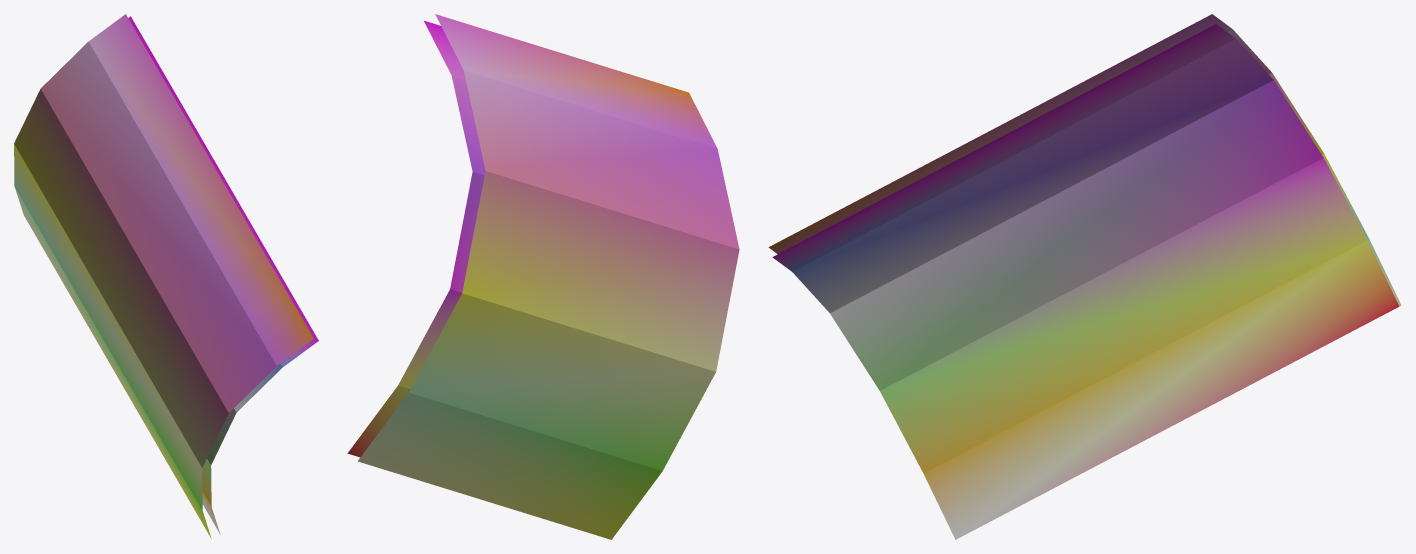
3 renders of one model, left to right at view 1: azimuth 30°, elevation 25°; view 2: azimuth 150°, elevation 25°; view 3: azimuth 270°, elevation 25°, orthographic. The views are drawn at different scales.
Parts seen in each view (by area): view 1: Object01; view 2: Object01; view 3: Object01.
Boxes of the visible parts, x1,y1,x2,y2 form: Object01: (14,14,318,538); Object01: (347,14,739,539); Object01: (768,14,1401,539).
Bounding box in the file's own units: 1.94 × 11.51 × 10.75.
